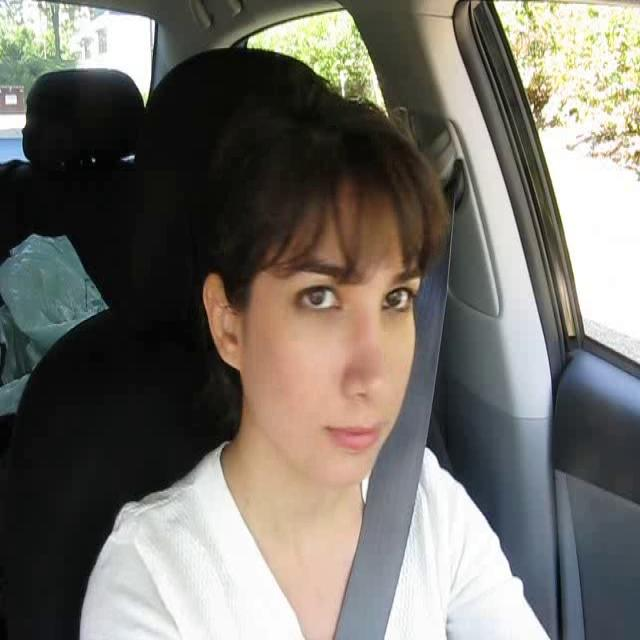close: (324, 416, 383, 454)
